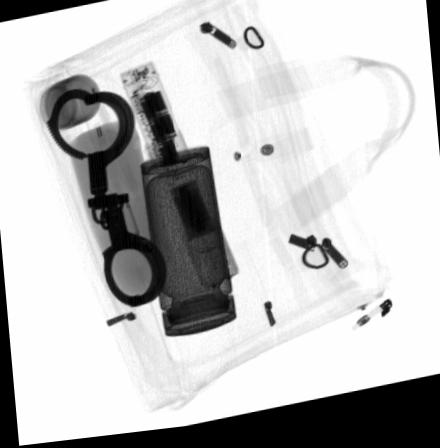Baton: (116, 63, 239, 295)
HandCuffs: (43, 90, 168, 312)
